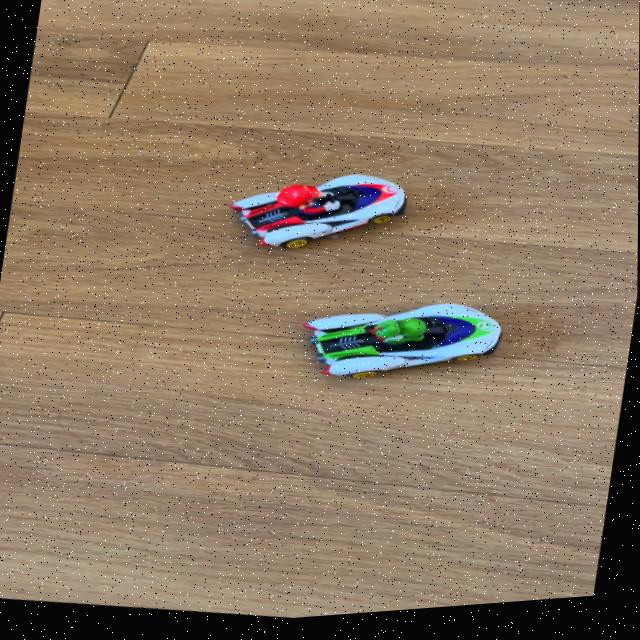mario: (211, 154, 424, 279)
yoshi: (291, 282, 522, 415)
